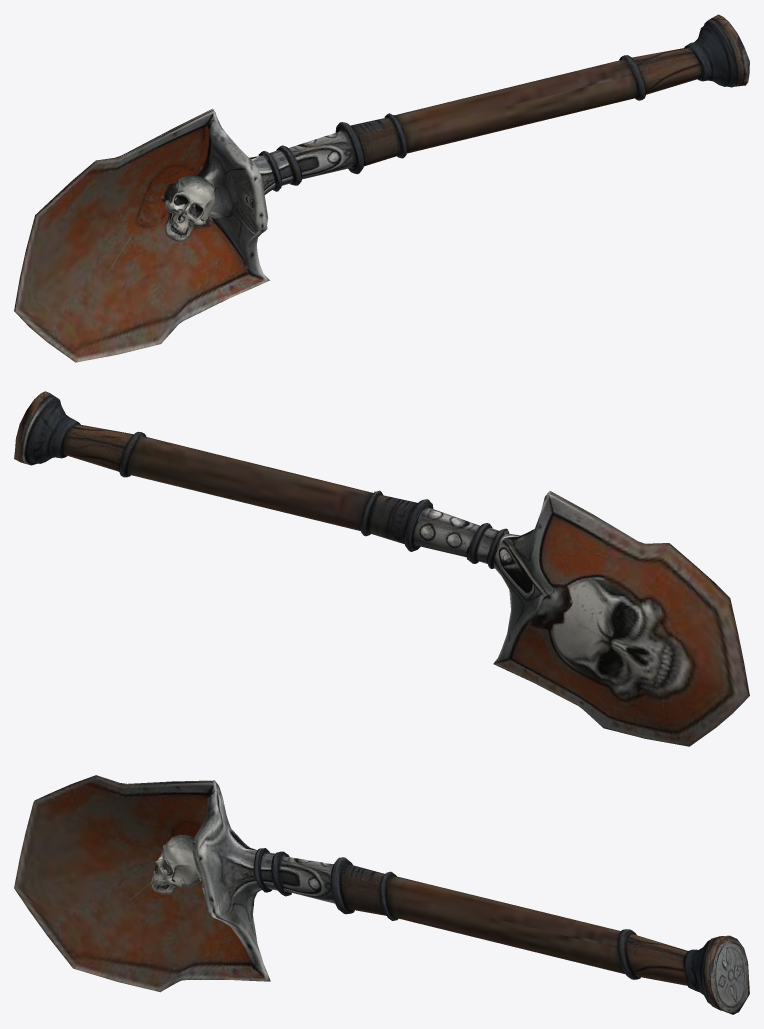
Rendered from kurek.glb.
The picture shows the model from 3 angles, top to bottom: view 1: azimuth 30°, elevation 25°; view 2: azimuth 150°, elevation 25°; view 3: azimuth 330°, elevation 25°; orthographic projection.
Bounding box in the file's own units: 0.9536 × 0.2803 × 0.0996.
1 material, 1 textured.
